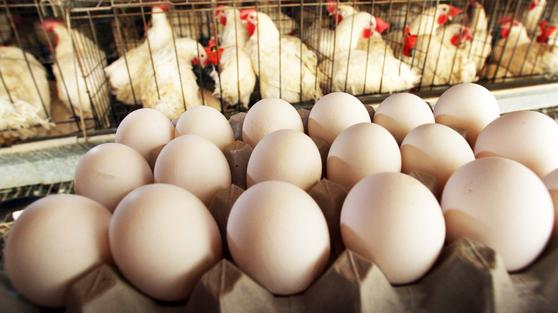egg: (112, 183, 223, 289), (339, 175, 446, 281), (328, 123, 405, 185), (245, 128, 323, 185)
